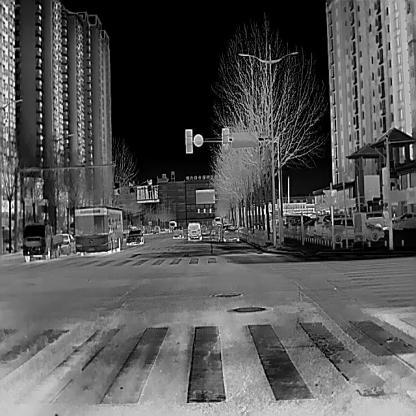car: (73, 205, 123, 255), (21, 222, 63, 262), (327, 217, 383, 243), (313, 213, 354, 240), (322, 219, 364, 242), (289, 218, 324, 237), (284, 214, 313, 235), (295, 218, 323, 239), (354, 211, 386, 229), (53, 233, 76, 256), (390, 212, 416, 229), (306, 217, 326, 236), (219, 224, 240, 242), (126, 229, 144, 246), (187, 222, 202, 240), (172, 226, 183, 239), (213, 215, 221, 230), (168, 220, 177, 233), (153, 225, 160, 233)
